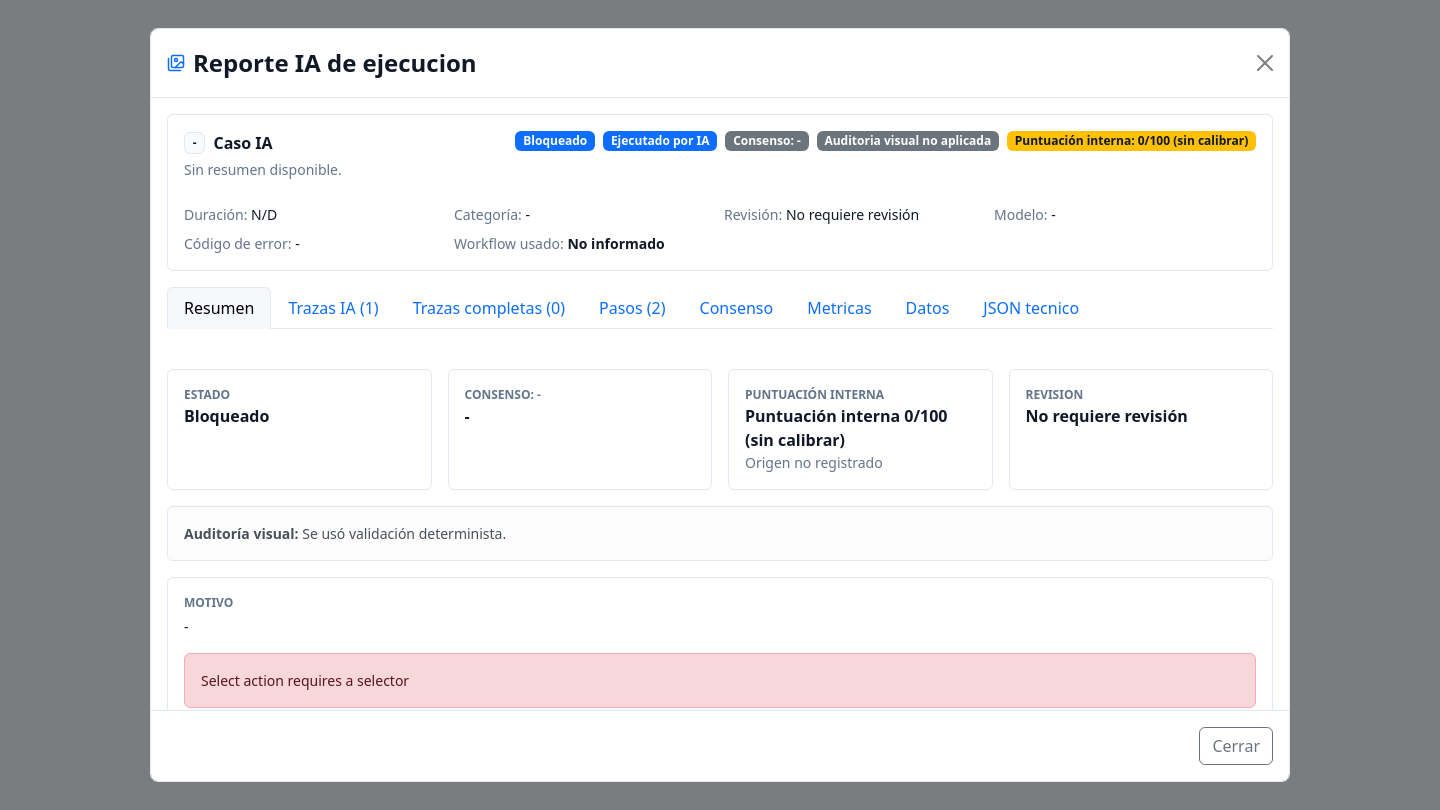
Test case: AiExecutionReportModal › shows workflow context and explains a blocked execution without runnable steps
Click the tab "Trazas IA (1)" at (334, 308), box [271,287,396,329]
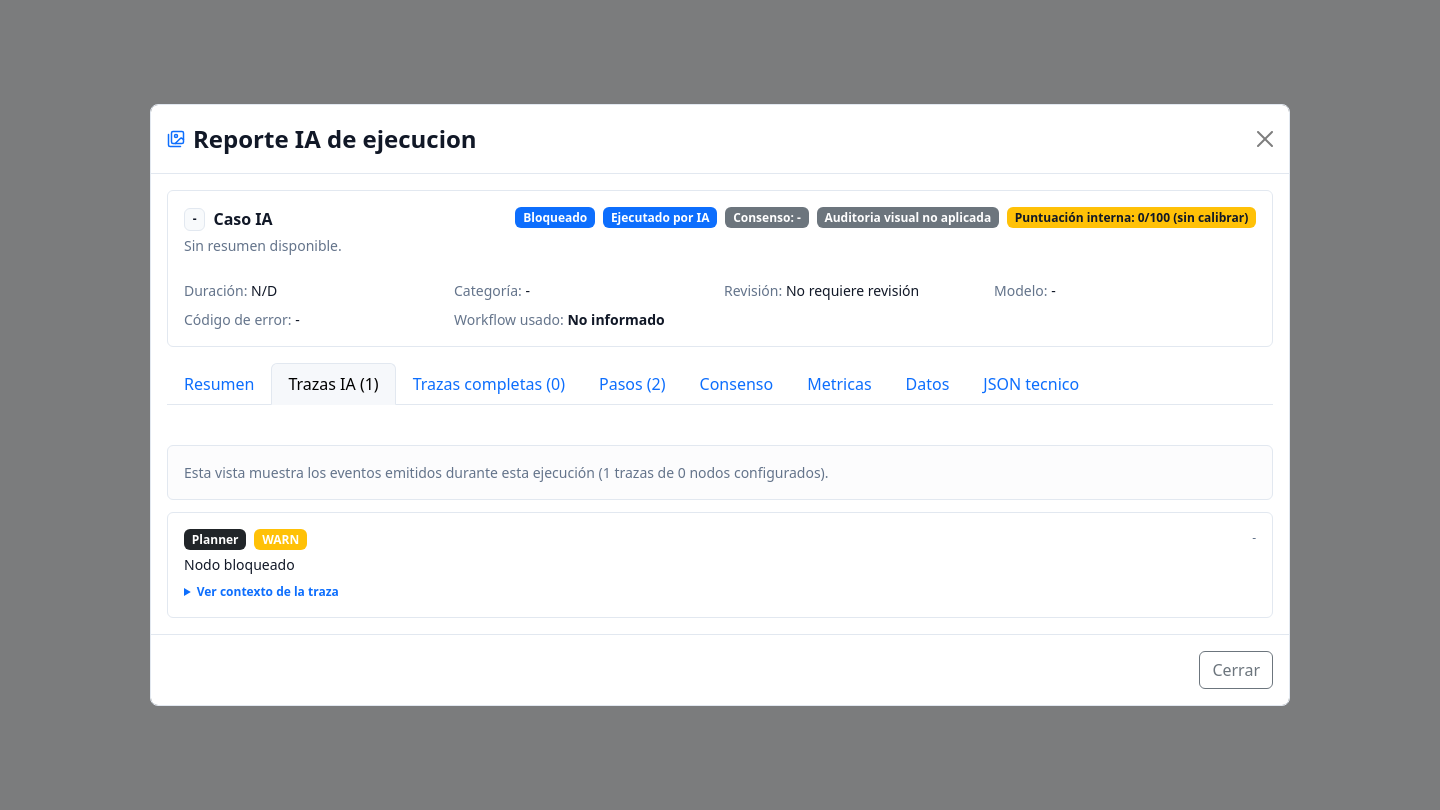
expect the heading "Ver contexto de la traza" is shown: met, box [197,583,339,600]
Click the tab "Pasos (2)" at (632, 384), box [582,363,683,405]
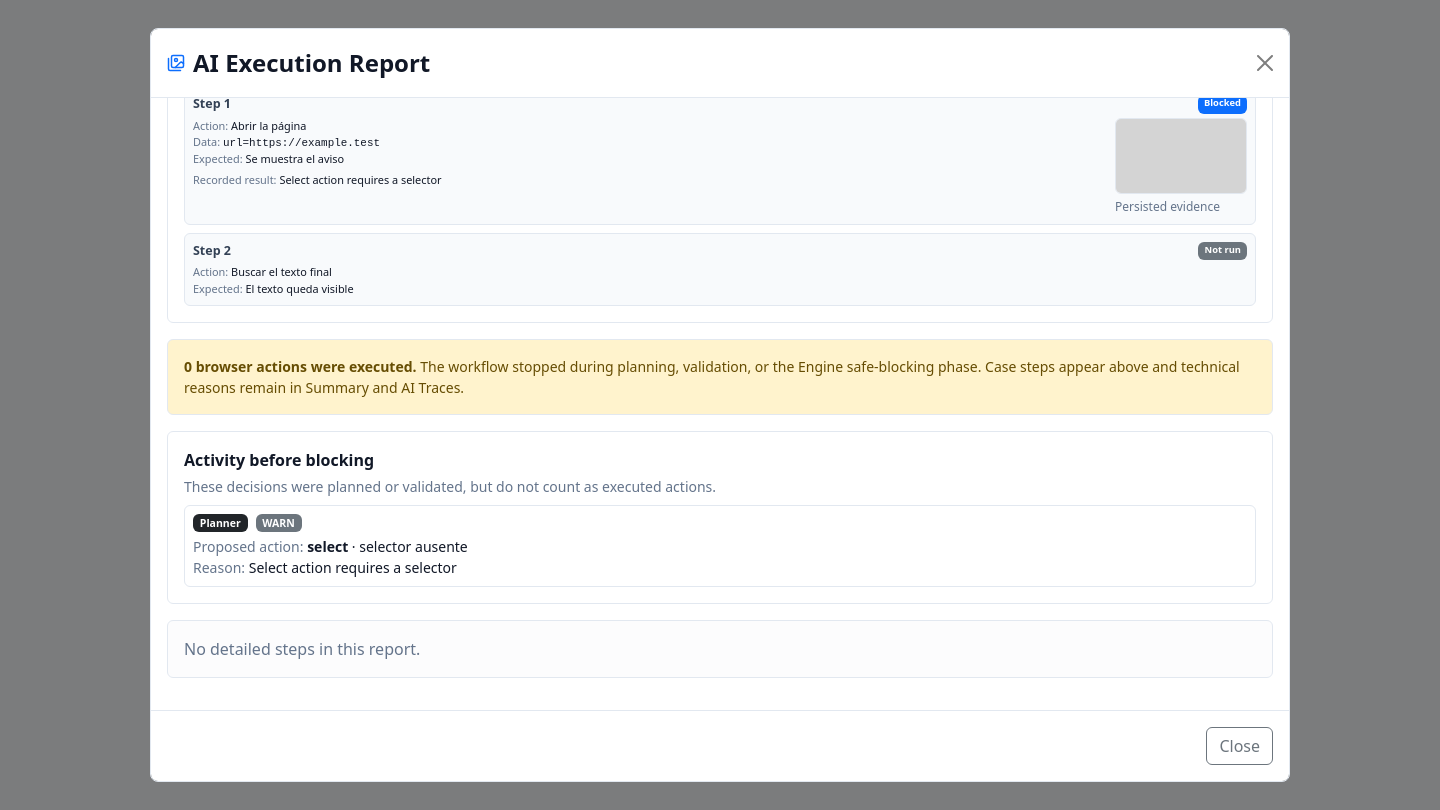
expect the text "Abrir la página" is shown: met, box [231,118,306,133]
expect the text "Se ejecutaron 0 acciones en el navegador" is shown: met, box [184,357,417,376]
expect the text "Actividad previa al bloqueo" is shown: met, box [184,449,374,471]
